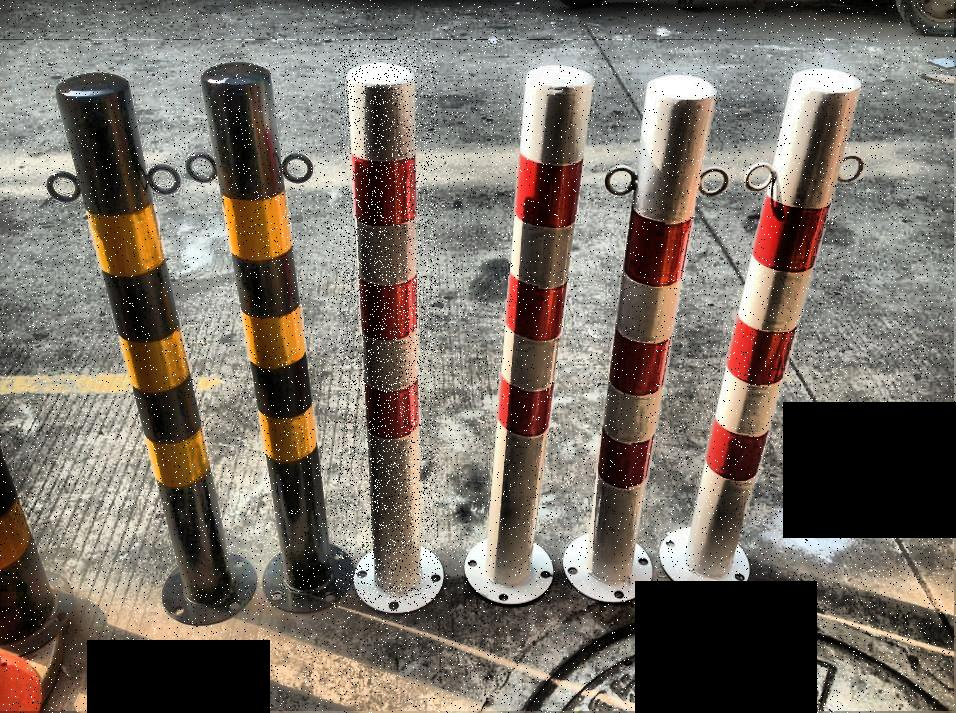bench: (191, 51, 340, 613), (335, 45, 439, 605)
